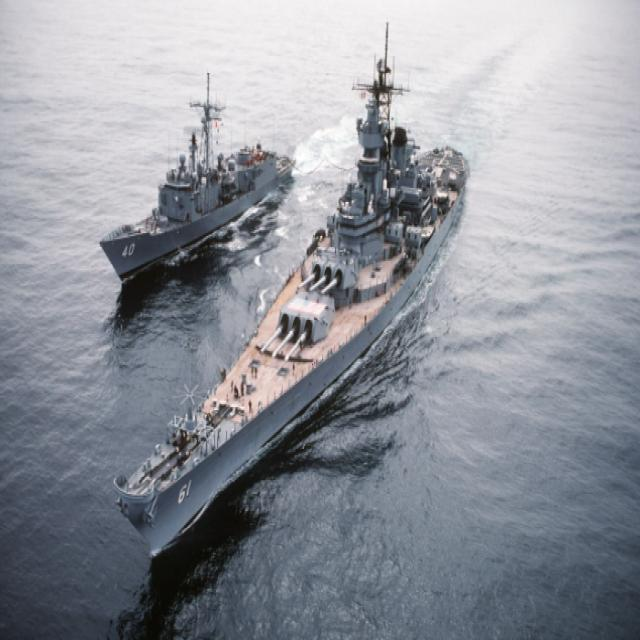navalvessels: (116, 31, 481, 542), (102, 53, 307, 284)
